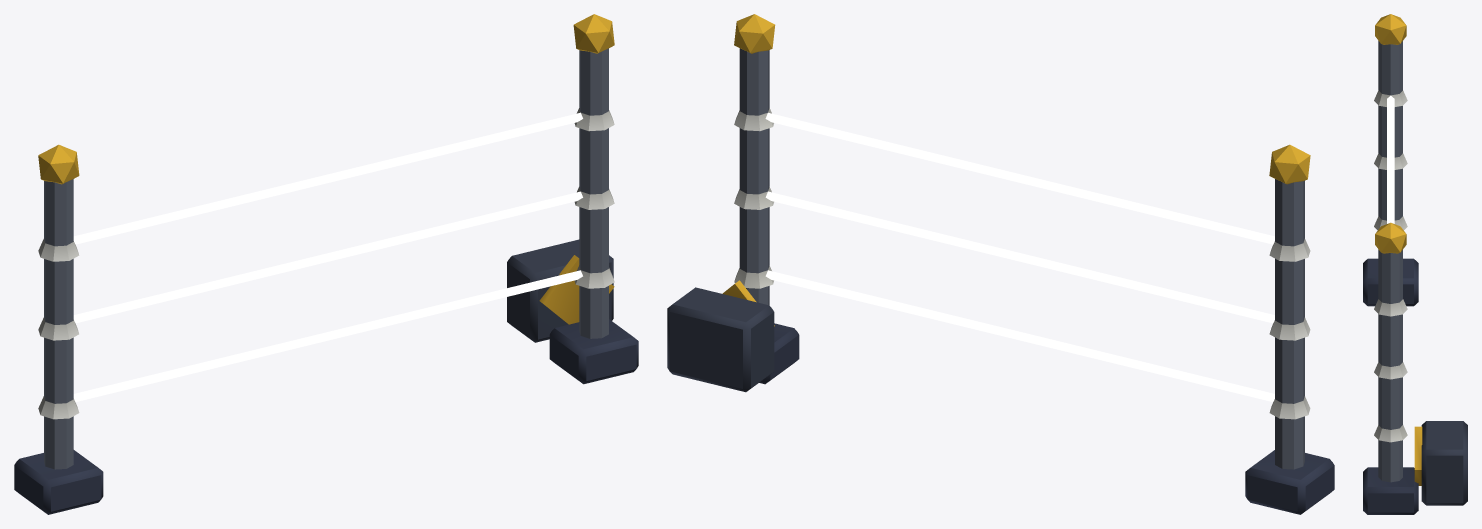
Rendered from b_zaun.glb.
The picture shows the model from 3 angles, left to right: view 1: azimuth 30°, elevation 25°; view 2: azimuth 150°, elevation 25°; view 3: azimuth 270°, elevation 25°; orthographic projection. The views are drawn at different scales.
Parts seen in each view (by area): view 1: body, wire_glow; view 2: body, wire_glow; view 3: body, wire_glow.
Part boxes in pixels (bbox=[...]): body: bbox=[14, 14, 638, 514]; wire_glow: bbox=[73, 112, 582, 402]; body: bbox=[667, 14, 1334, 514]; wire_glow: bbox=[765, 112, 1274, 401]; body: bbox=[1363, 14, 1467, 514]; wire_glow: bbox=[1387, 95, 1394, 223].
Bounding box in the file's own units: 3.63 × 2.02 × 0.68.
